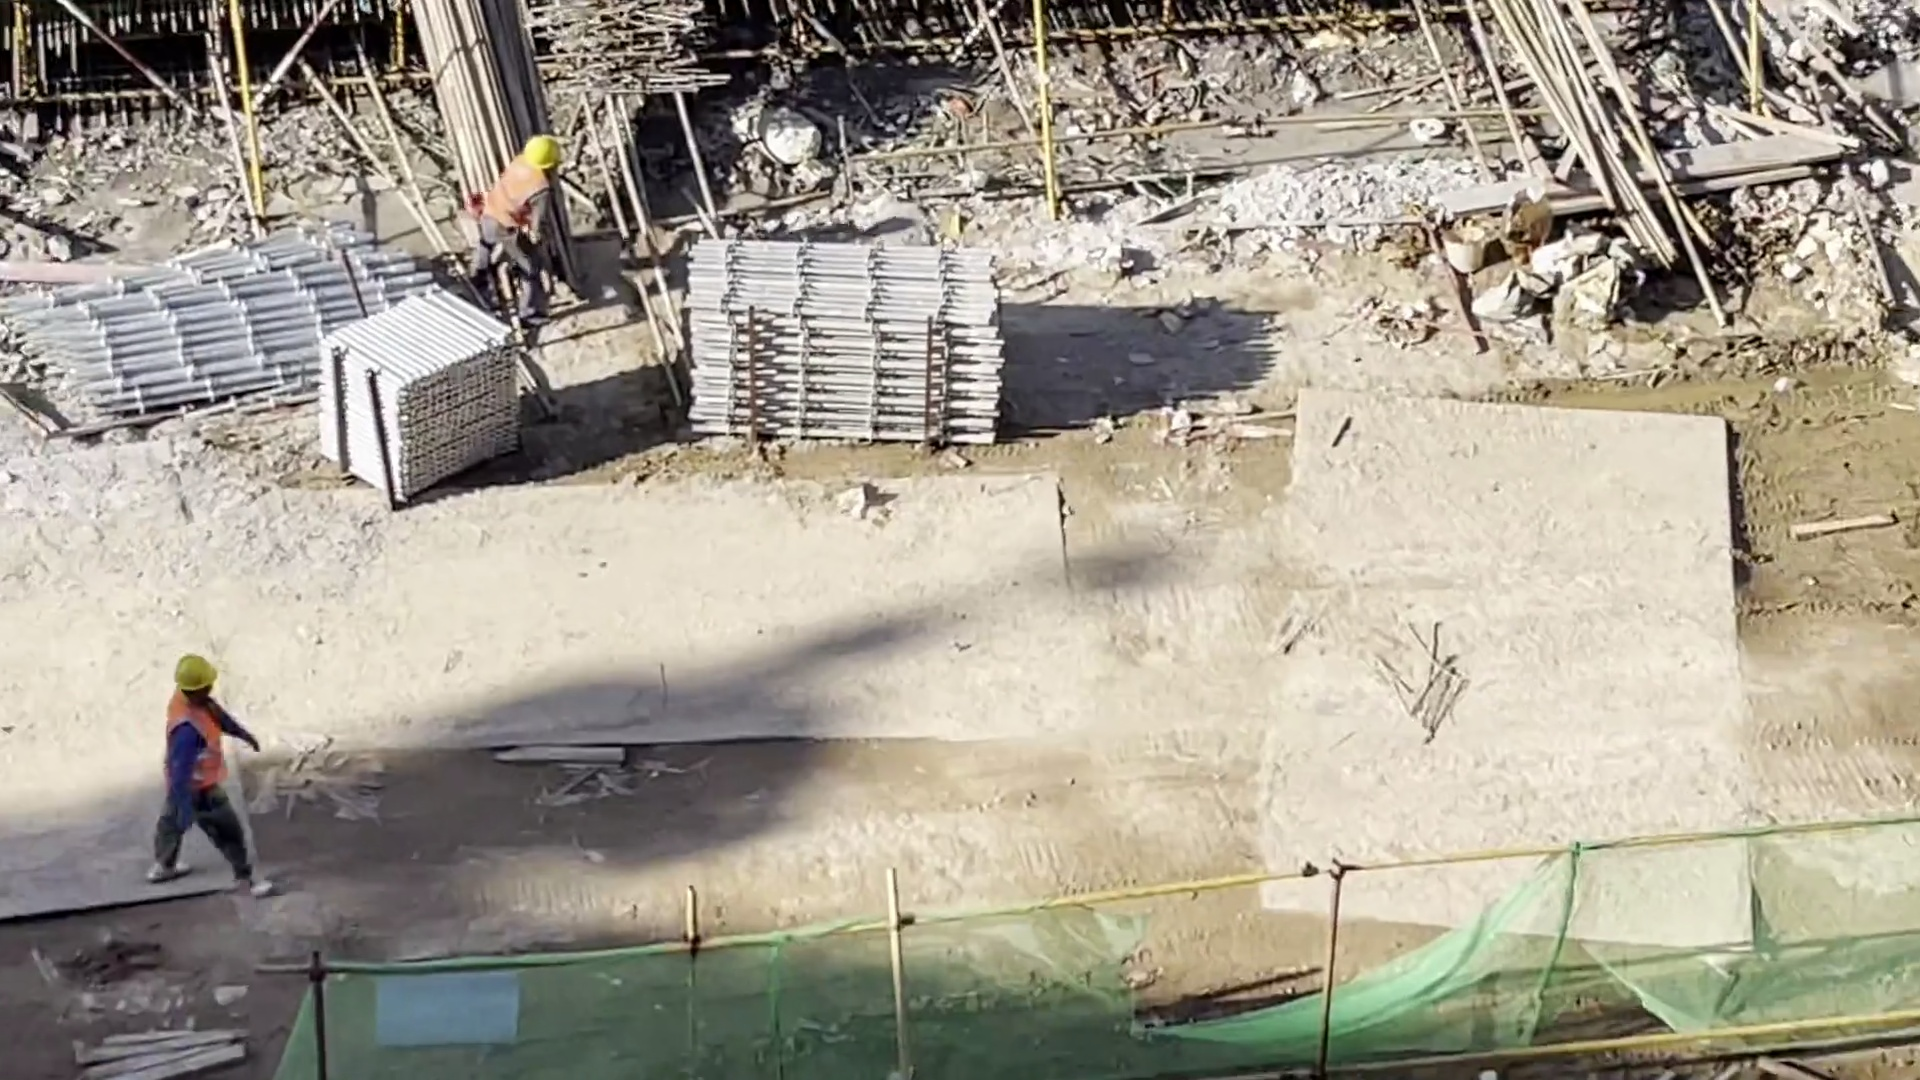helmet: (170, 642, 225, 701), (517, 123, 570, 176)
person: (123, 642, 301, 913), (458, 111, 595, 341)
vest: (164, 683, 230, 787), (480, 160, 558, 238)
